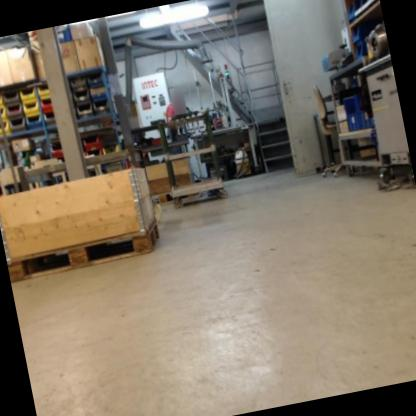pallet: (4, 217, 164, 284), (150, 185, 198, 207)
